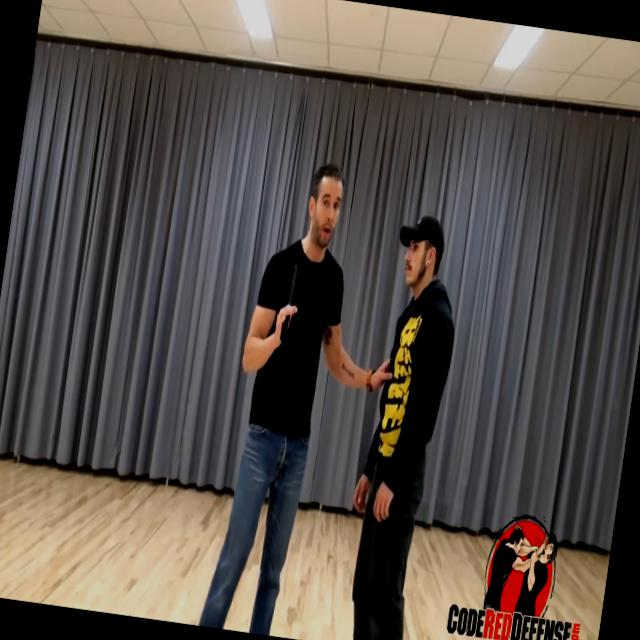knife: (274, 256, 306, 344)
